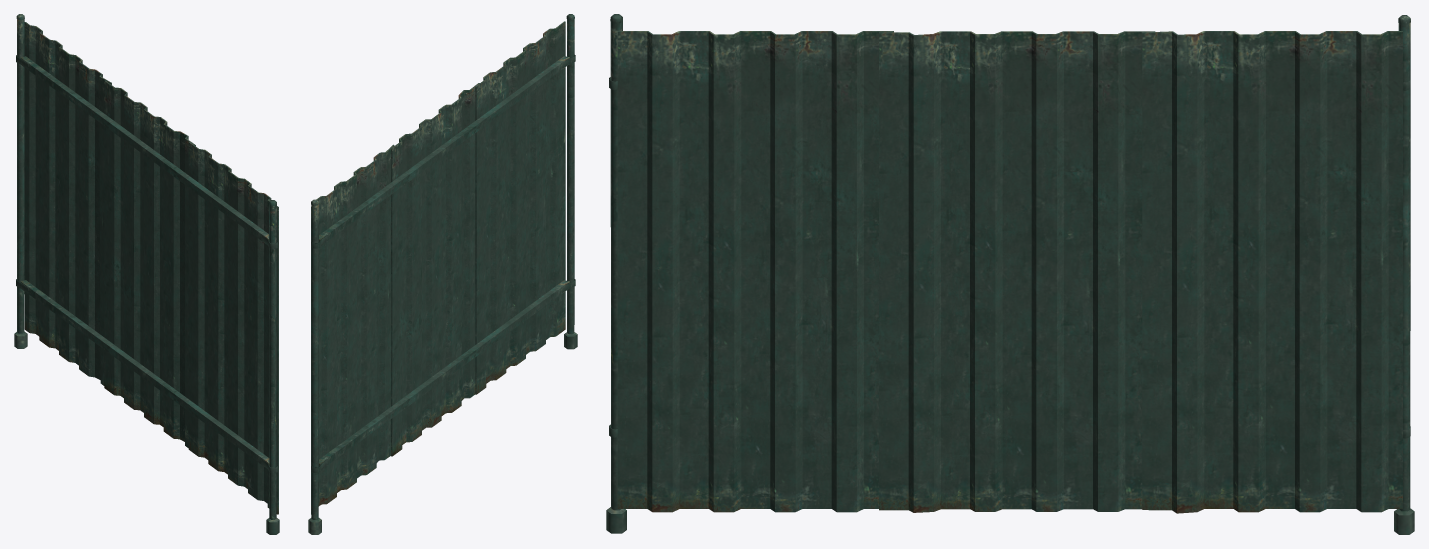
The model's file is RustedFence_B_A.fbx.
3 renders of one model, left to right at view 1: azimuth 30°, elevation 25°; view 2: azimuth 150°, elevation 25°; view 3: azimuth 270°, elevation 25°, orthographic. The views are drawn at different scales.
Visible parts, largest first — view 1: RustedFence_B_A; view 2: RustedFence_B_A; view 3: RustedFence_B_A.
Part boxes in pixels (bbox=[...]): RustedFence_B_A: bbox=[14, 14, 279, 534]; RustedFence_B_A: bbox=[308, 14, 577, 534]; RustedFence_B_A: bbox=[606, 14, 1414, 534].
Size of the model in its own units: 11.33 by 216 by 307.
